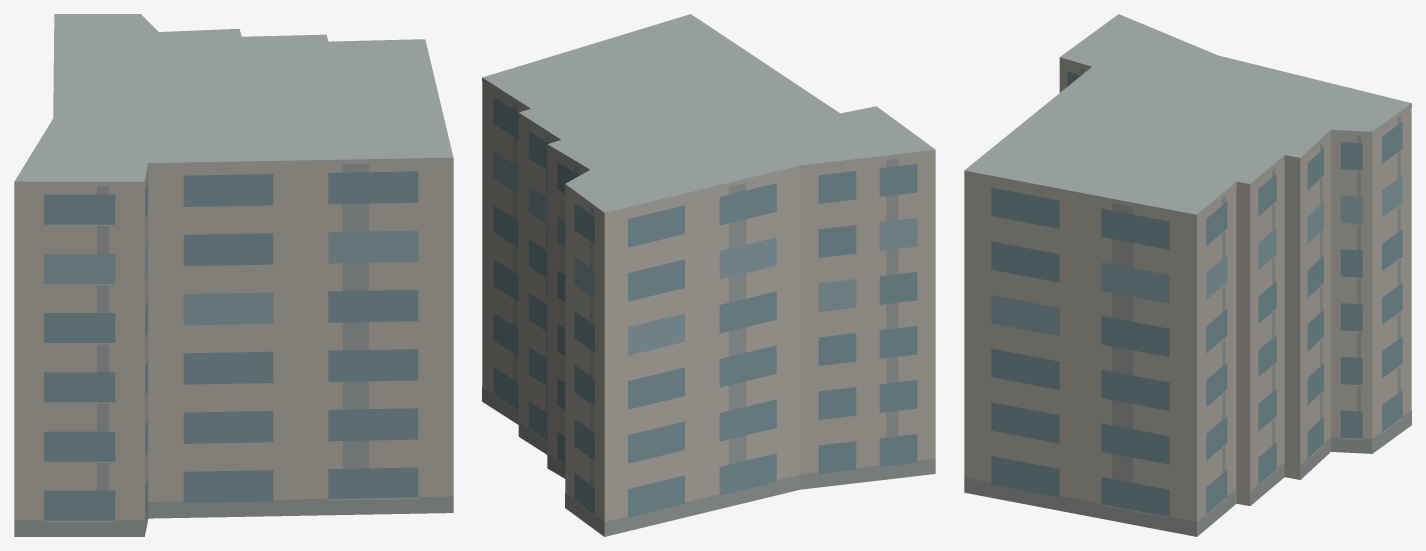
The model's file is survey-upis-32802498.glb.
The picture shows the model from 3 angles, left to right: view 1: azimuth 30°, elevation 25°; view 2: azimuth 150°, elevation 25°; view 3: azimuth 270°, elevation 25°; orthographic projection. The views are drawn at different scales.
Visible parts, largest first — view 1: survey-upis-32802498.tmp; view 2: survey-upis-32802498.tmp; view 3: survey-upis-32802498.tmp.
Part boxes in pixels (bbox=[...]): survey-upis-32802498.tmp: bbox=[14, 14, 453, 536]; survey-upis-32802498.tmp: bbox=[482, 14, 935, 536]; survey-upis-32802498.tmp: bbox=[964, 14, 1411, 536].
Size of the model in its own units: 23.88 by 17.85 by 22.49.
